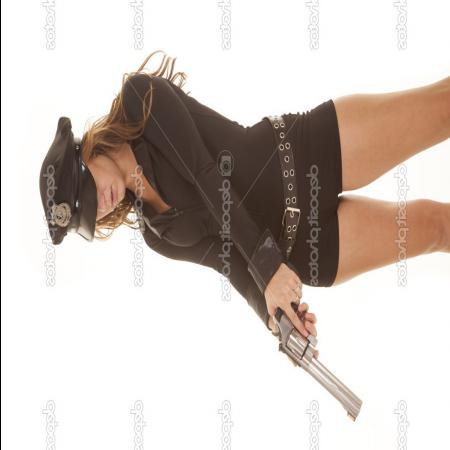Pistol: (268, 258, 362, 426)
